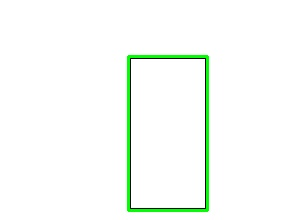line_segment: (127, 55, 209, 212)
